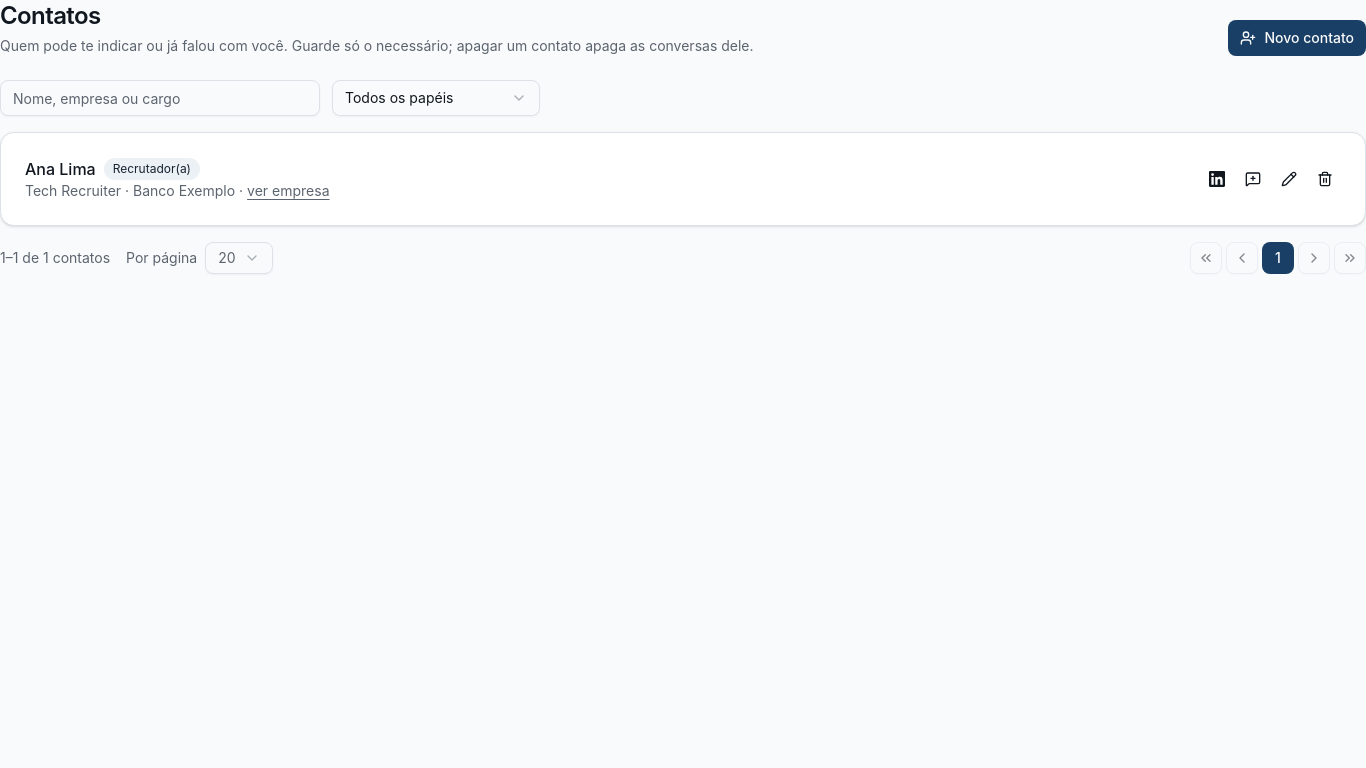
Test case: ContactsPage › lista os contatos e apaga um com as conversas
The width and height of the screenshot is (1366, 768).
Expected: the text "Ana Lima" is shown, [25,159,96,179]
Expected: the text "Recrutador(a)" is shown, [104,158,200,180]
Click the button named "Apagar Ana Lima" at (1325, 179), box [1309,163,1341,195]
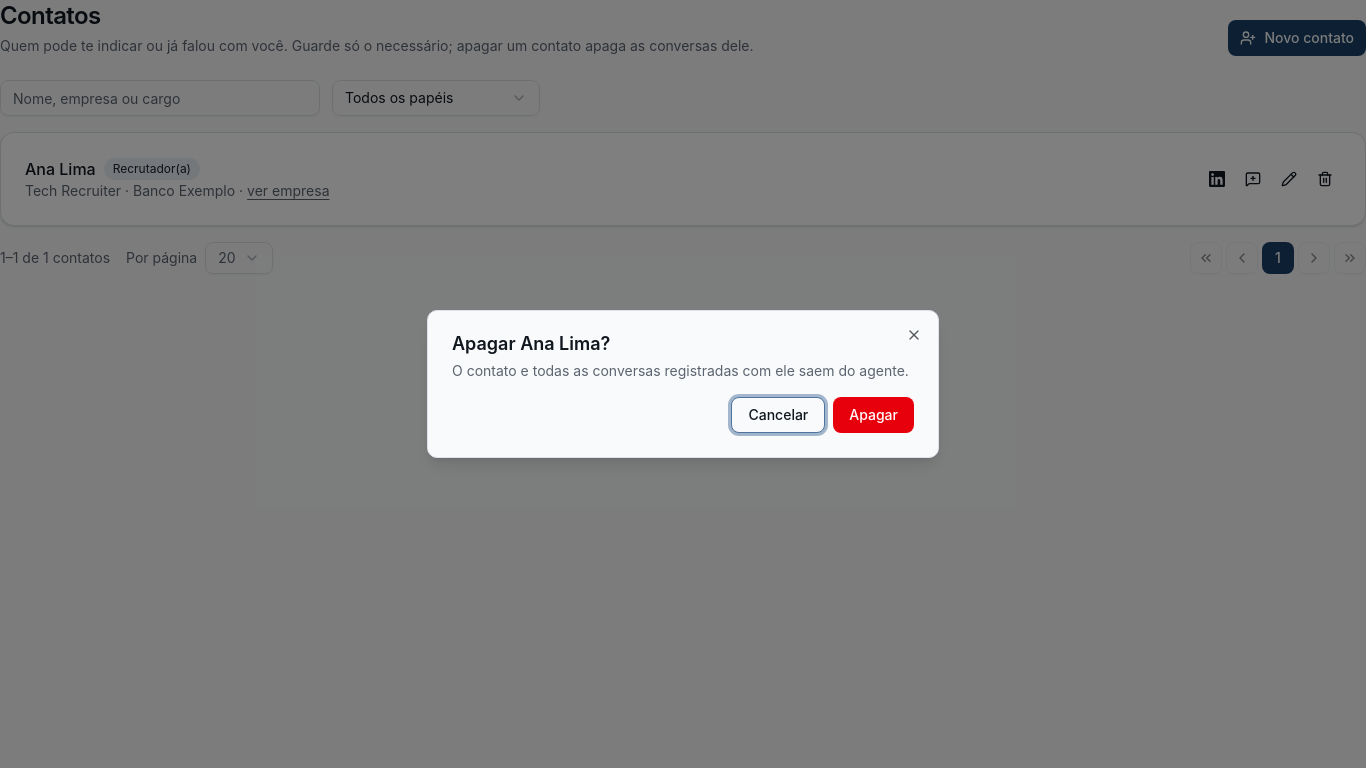
Click the button "Apagar" at (874, 415), box [833,397,914,433]
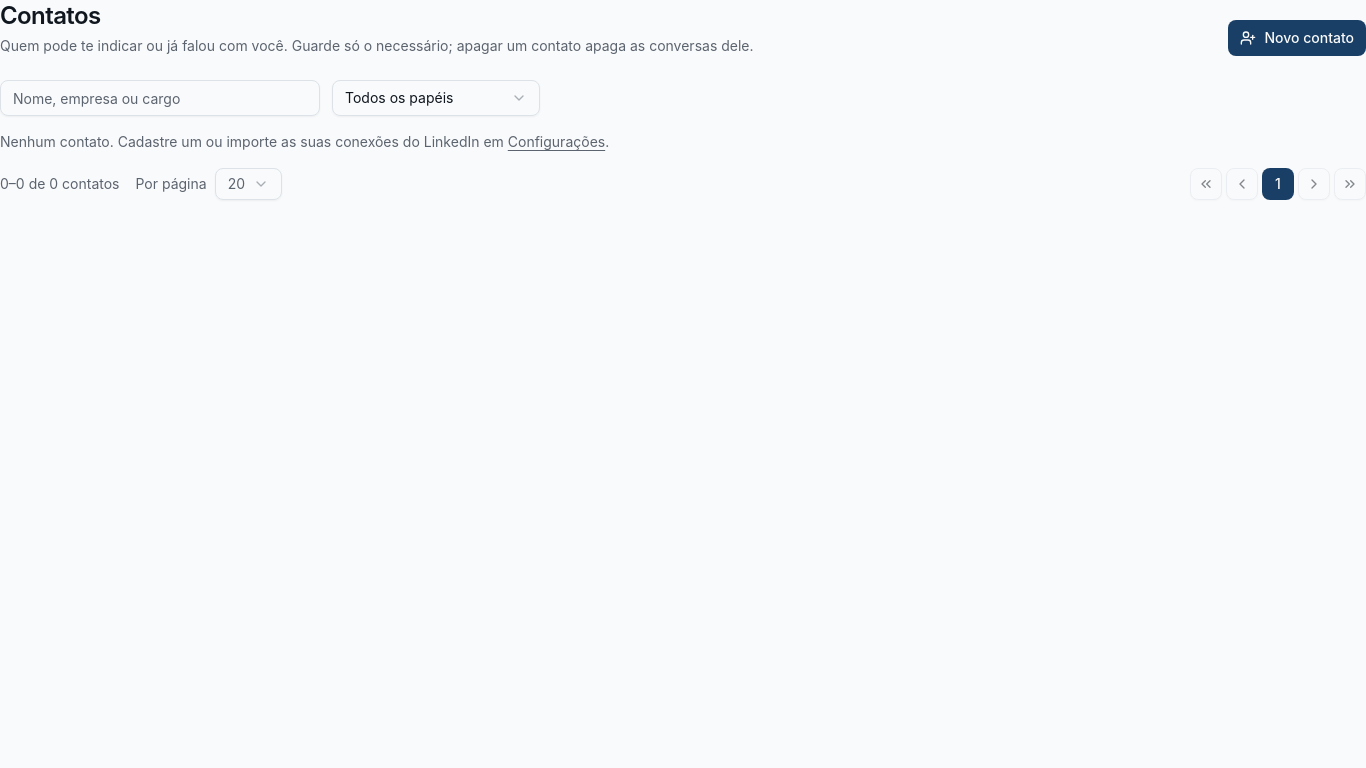
Expected: the text "Nenhum contato" is shown, [0,133,504,150]
